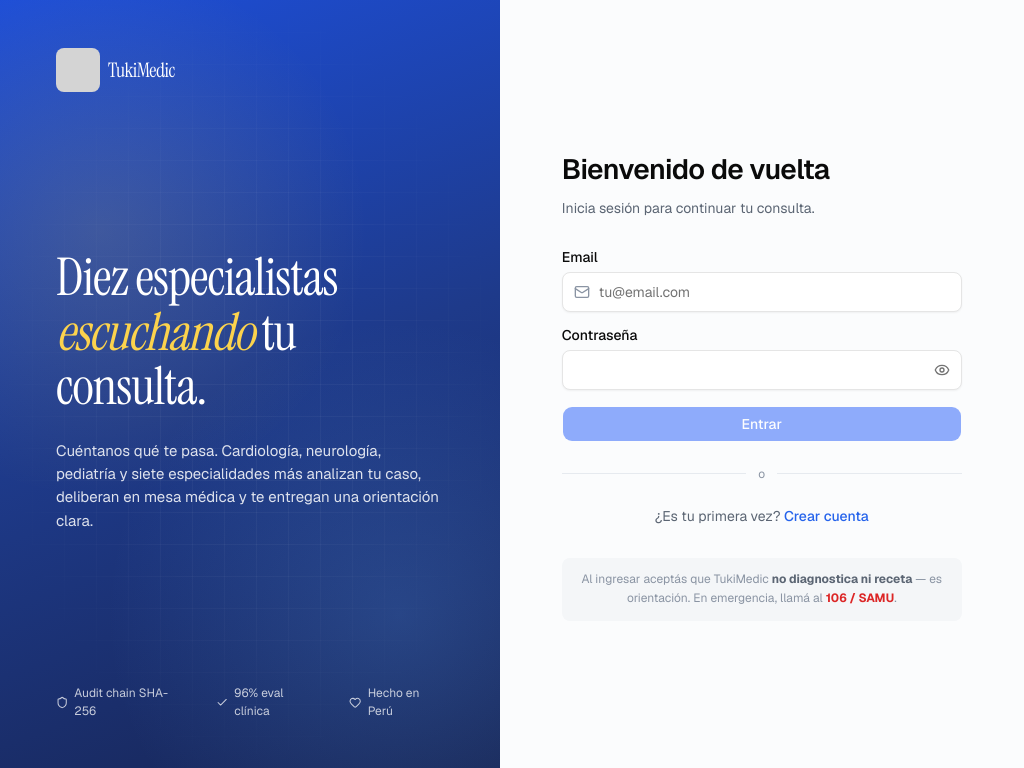
Test: LoginPage › 401 shows "Email o contraseña incorrectos"
Step 1. Type "x@x.com" into the field labelled "Email" → (762, 292), box top-left (562, 272), bottom-right (962, 312)
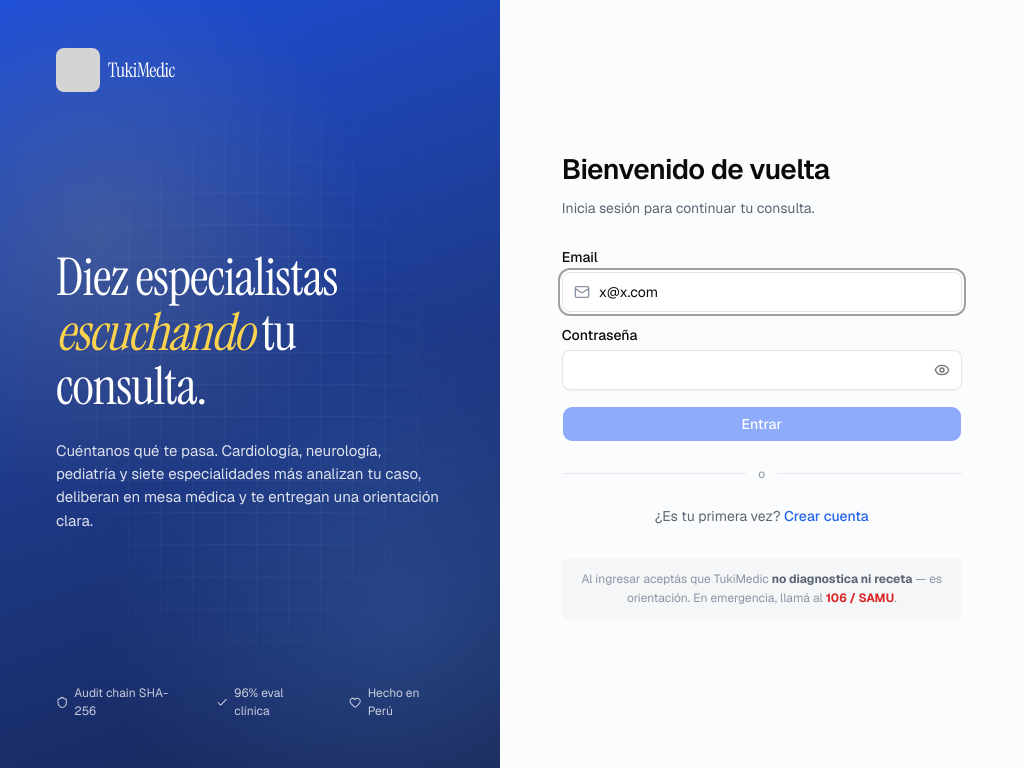
Step 2. Type "wrongpassword" into the password field labelled "Contraseña" → (762, 370), box top-left (562, 350), bottom-right (962, 390)
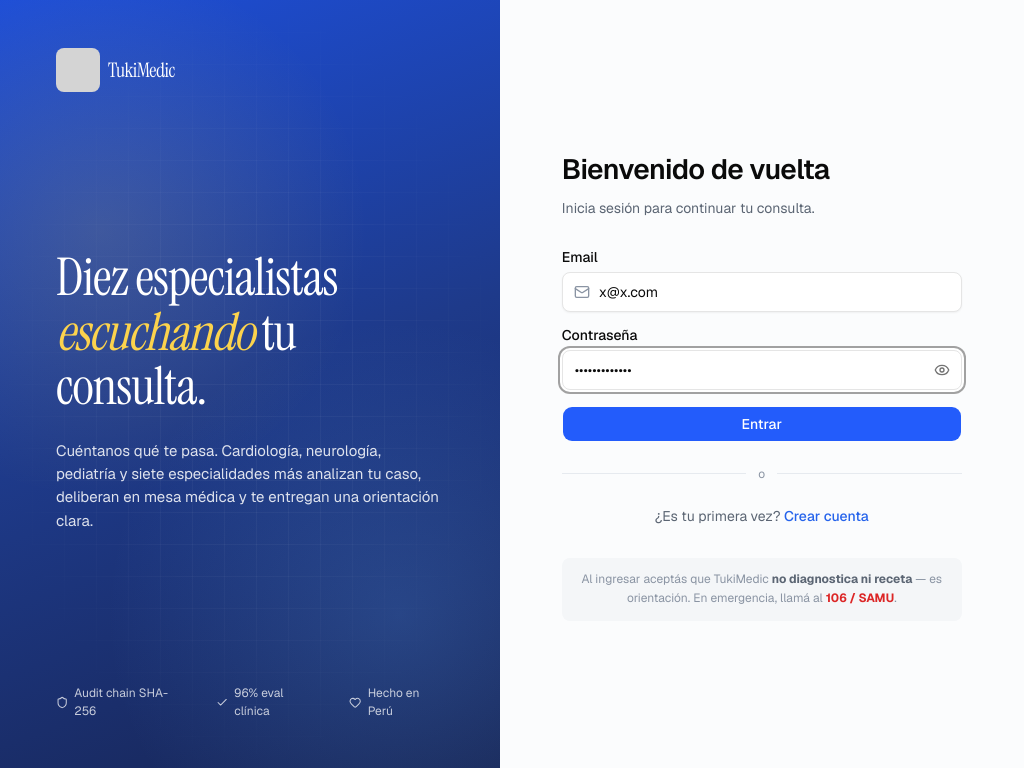
Step 3. Click the button "Entrar" → (762, 424), box top-left (562, 406), bottom-right (962, 442)
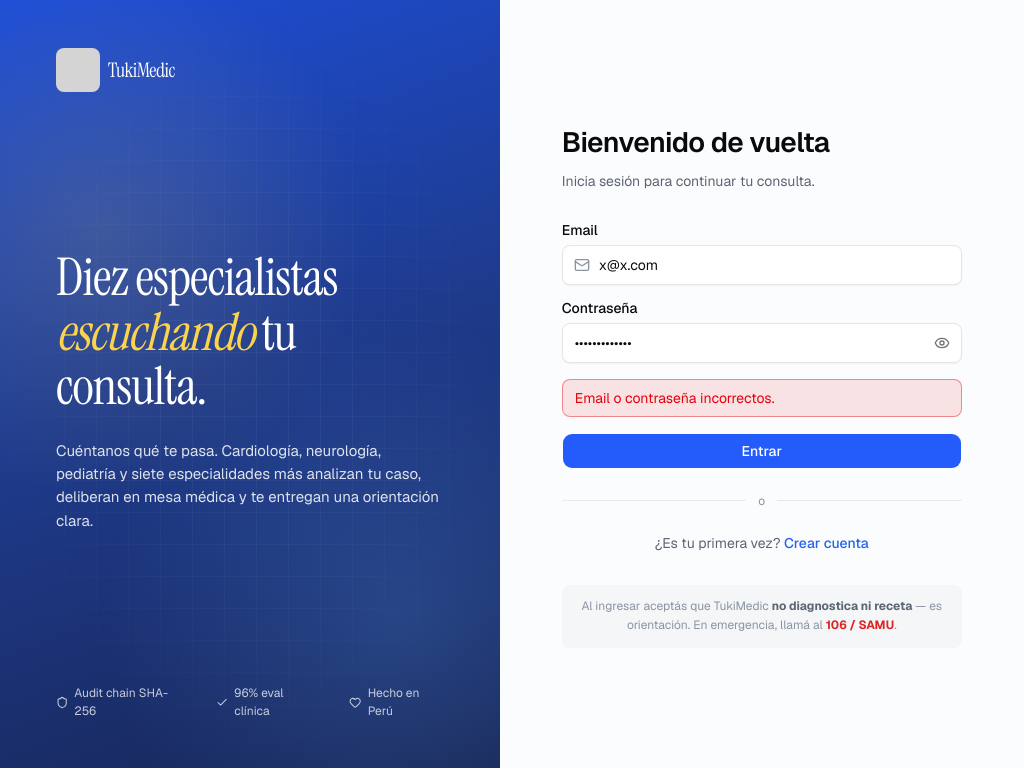
Expected: the text "Email o contraseña incorrectos." is shown, top-left (562, 378), bottom-right (962, 416)
